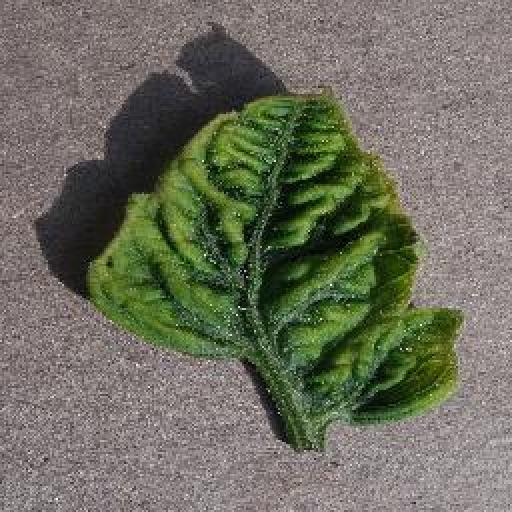Yellow Leaf Curl Virus: (90, 87, 466, 429)
